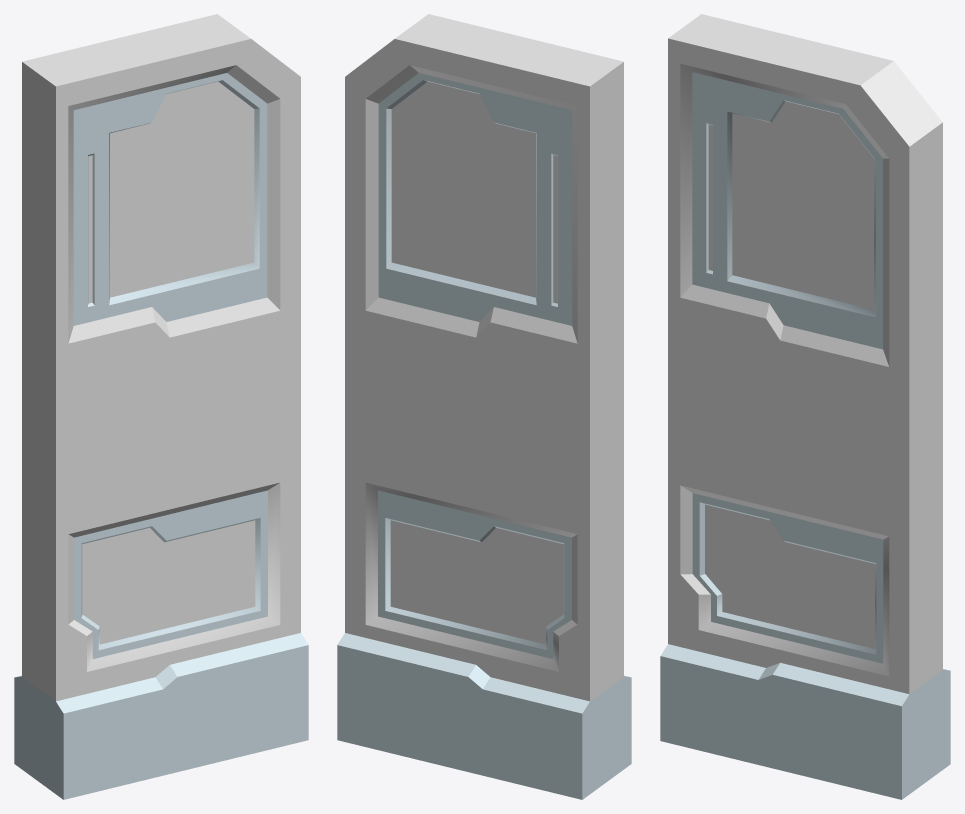
The model's file is door_big_small_b.fbx.
The picture shows the model from 3 angles, left to right: view 1: azimuth 30°, elevation 25°; view 2: azimuth 150°, elevation 25°; view 3: azimuth 330°, elevation 25°; orthographic projection.
Parts seen in each view (by area): view 1: door_big_small_b; view 2: door_big_small_b; view 3: door_big_small_b.
Part boxes in pixels (box(x1,y1,x2,y2)): door_big_small_b: box(14, 14, 308, 799); door_big_small_b: box(337, 14, 631, 799); door_big_small_b: box(660, 14, 950, 799).
Size of the model in its own units: 0.6508 by 1.8 by 0.2271.
